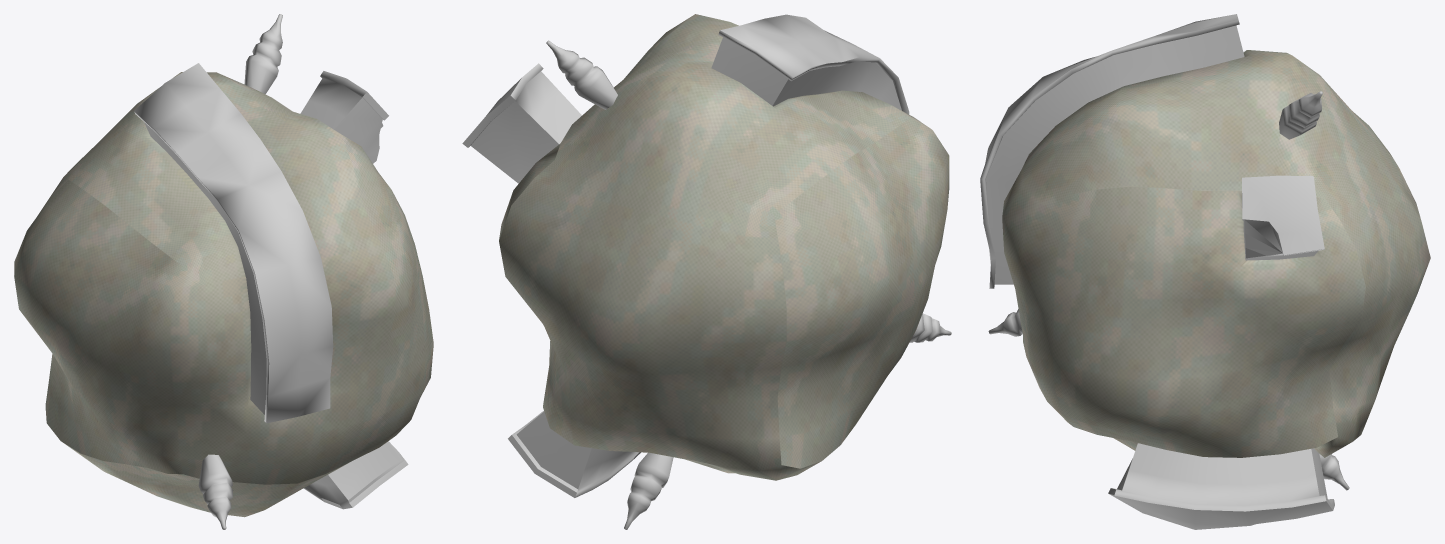
The model's file is dropofwaterplanet.dae.
3 renders of one model, left to right at view 1: azimuth 30°, elevation 25°; view 2: azimuth 150°, elevation 25°; view 3: azimuth 270°, elevation 25°, orthographic. The views are drawn at different scales.
Visible parts, largest first — view 1: n1b0, n2b1, n0b2; view 2: n1b0, n2b1, n0b2; view 3: n1b0, n2b1, n0b2.
Boxes of the visible parts, box(x1,y1,x2,y2) form: n1b0: box(14, 72, 433, 517); n2b1: box(134, 63, 408, 509); n0b2: box(198, 14, 282, 529); n1b0: box(499, 14, 949, 480); n2b1: box(462, 14, 909, 497); n0b2: box(546, 40, 951, 529); n1b0: box(1002, 50, 1430, 457); n2b1: box(980, 14, 1334, 529); n0b2: box(988, 91, 1349, 490).
Size of the model in its own units: 673 by 776 by 692.
